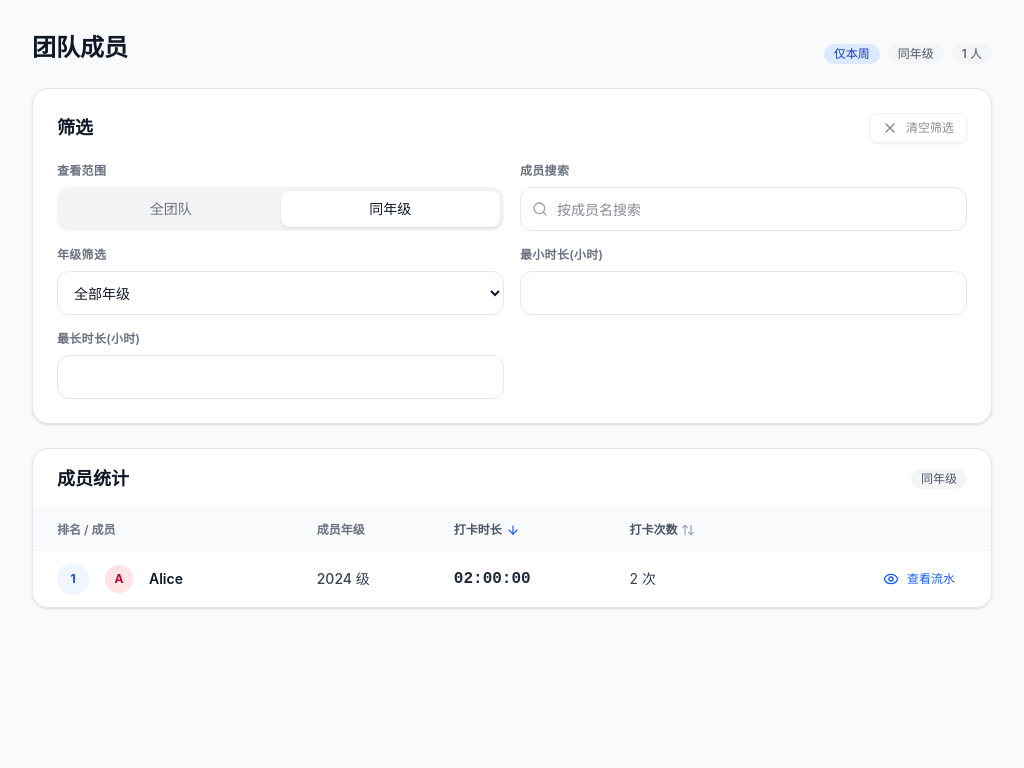
Test: MembersPage › supports switching between same-grade and full-team scopes
This screenshot has width=1024, height=768.
Expected: the text "Alice" is shown, left=149, top=569, right=183, bottom=589
Click the button with aria-label "scope-team": (171,209) left=61, top=191, right=280, bottom=227
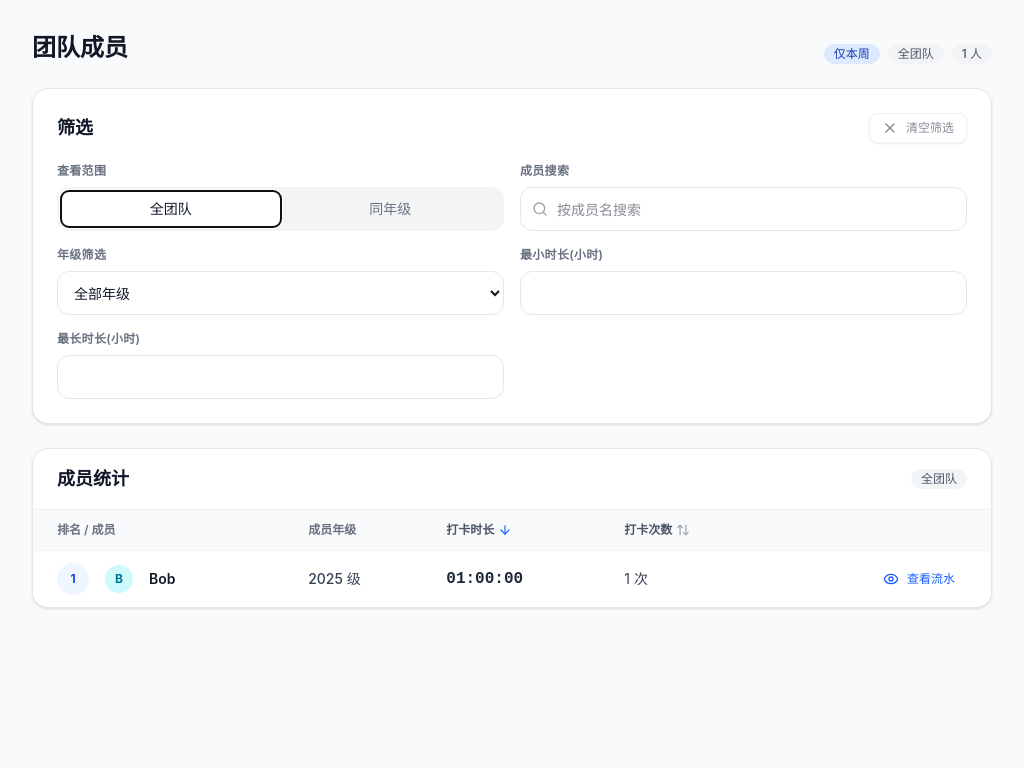
Expected: the text "Bob" is shown, left=149, top=569, right=176, bottom=589
